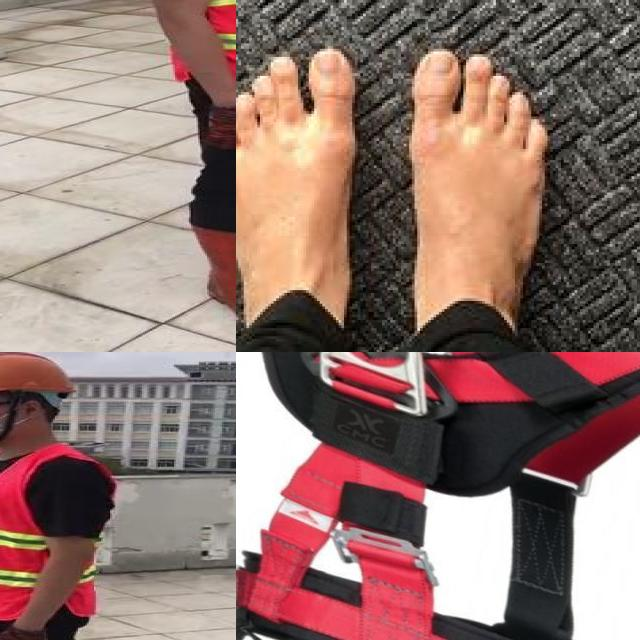Barefoots: (236, 48, 549, 352)
Harness: (236, 352, 640, 640)
boots: (196, 230, 236, 332)
face_mask: (0, 395, 15, 446)
hand_glove: (199, 103, 236, 151), (0, 626, 51, 640)
head_helmet: (0, 352, 78, 399)
person: (104, 0, 236, 336), (0, 352, 120, 640)
vest: (0, 445, 108, 620)
